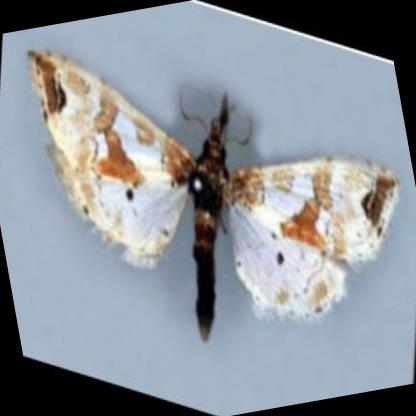leucinodes: (29, 44, 400, 339)
